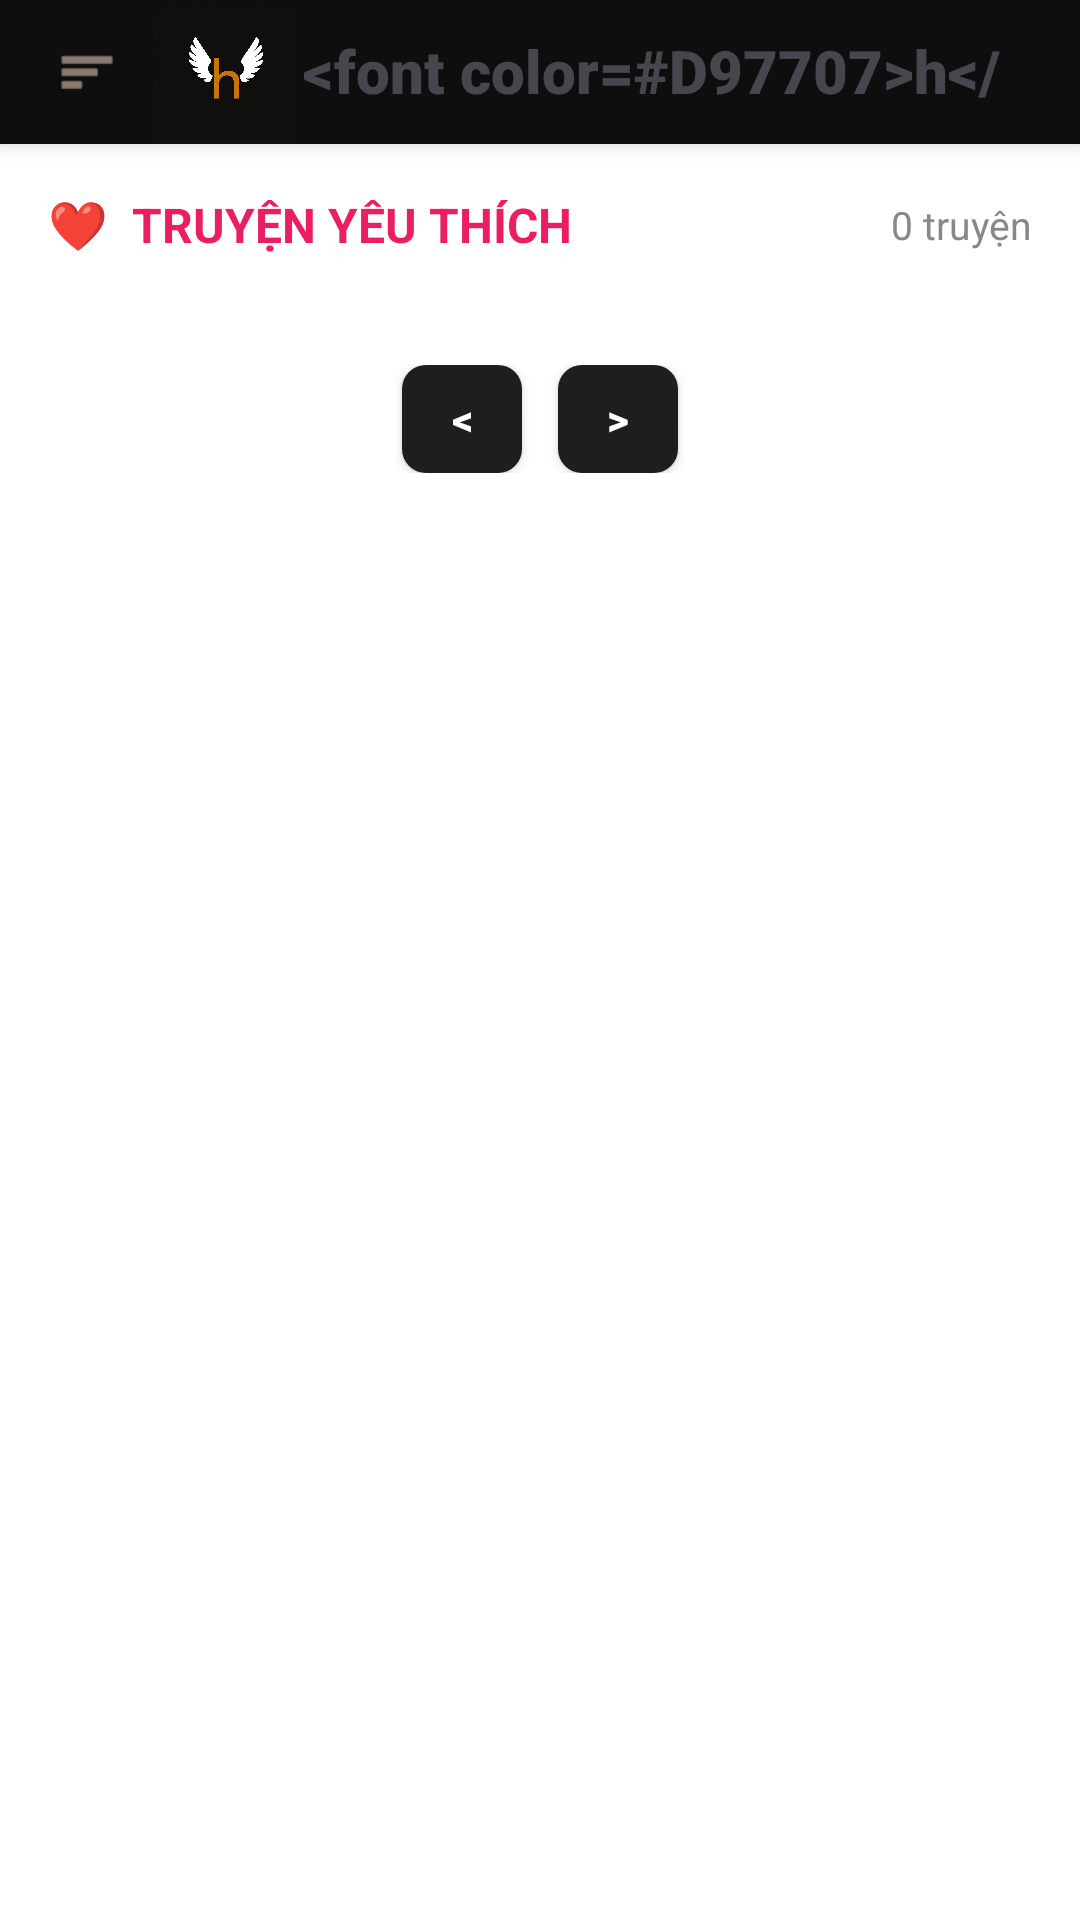

Icons on this 1080w x 1920h Android screen, each with the point to tap as (x=x, y=y):
Menu: (x=87, y=72)
